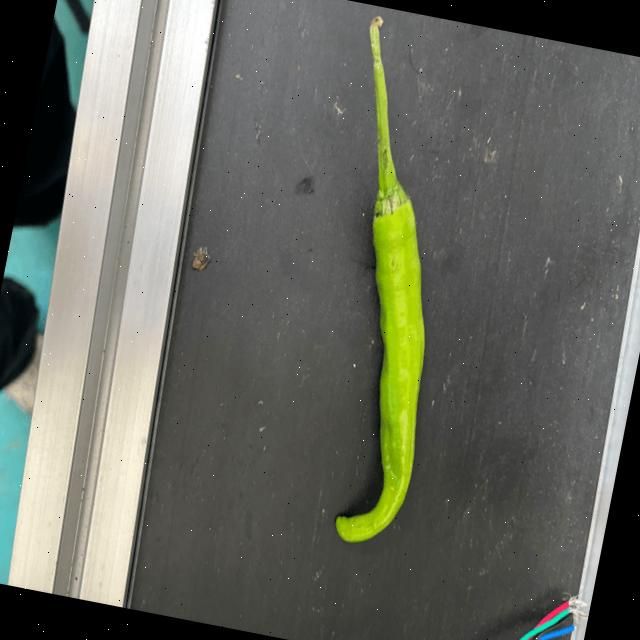chili: (332, 178, 427, 542)
